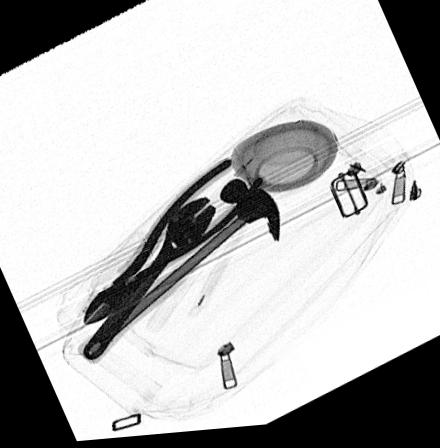Hammer: (75, 179, 281, 370)
Pliers: (79, 163, 268, 329)
Wrench: (83, 199, 216, 361)
